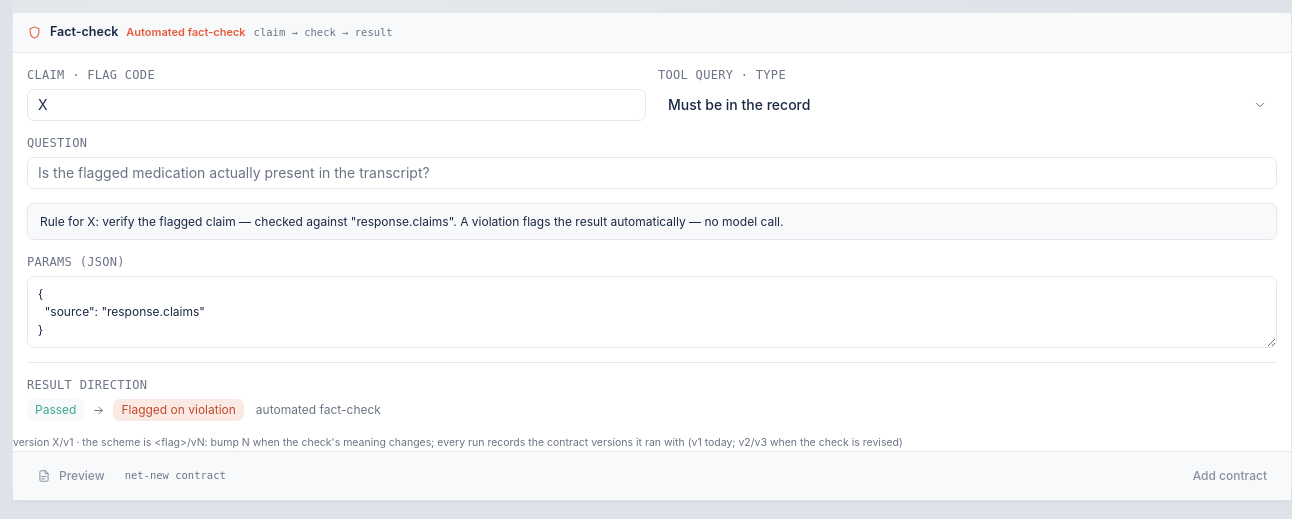
it: ContractBuilder — the live type list drives the UI, with a fallback (FAUTH-2 / A3) › falls back to the static CONTRACT_TYPES when the fetch REJECTS (offline-safe, no crash)
Press the mouse on the dropdown named "contract type" at coordinates (739, 104), box [658, 89, 1277, 121]
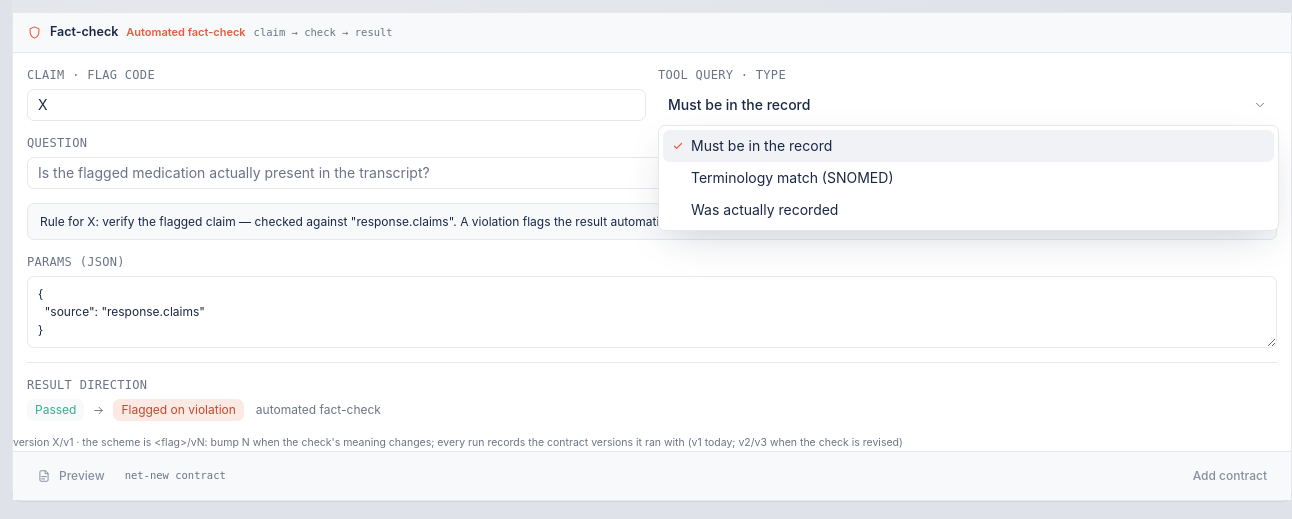
Check: the text "Must be in the record" below "Tool query · type" is shown, box [668, 96, 810, 113]
Check: the text "Terminology match (SNOMED)" is shown, box [691, 168, 894, 188]
Check: the text "Was actually recorded" is shown, box [691, 200, 838, 220]
